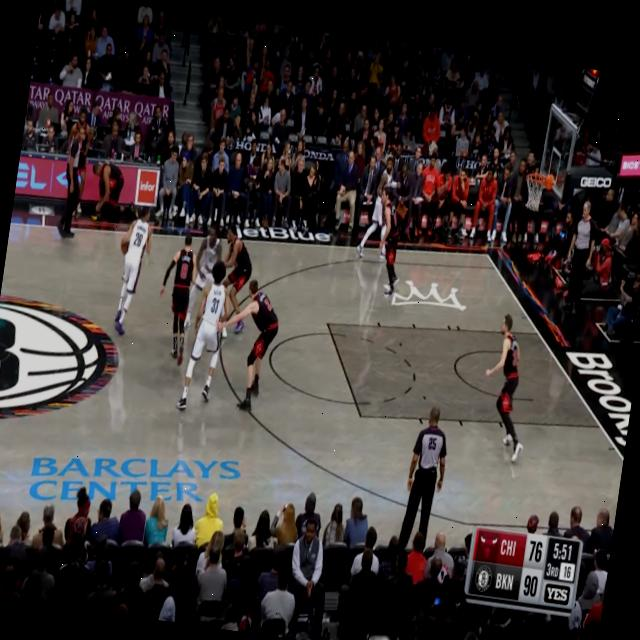no foul: (144, 202, 294, 419)
